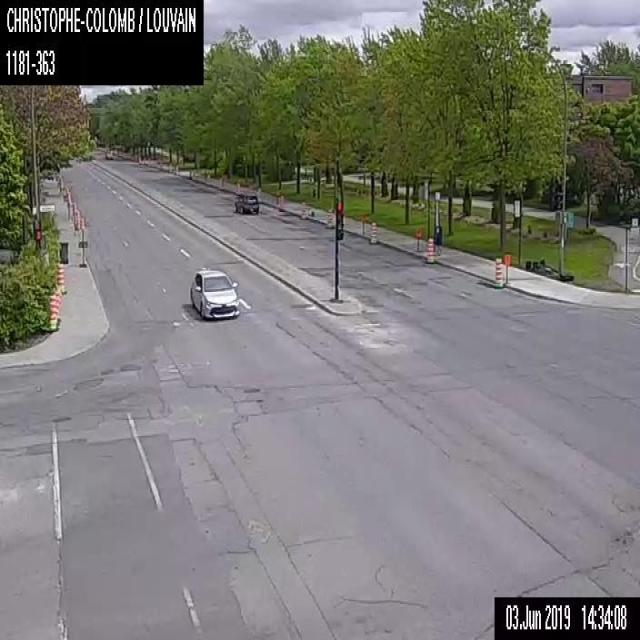construction: (56, 259, 67, 294), (50, 287, 61, 322), (47, 296, 58, 331), (49, 291, 60, 325), (494, 256, 503, 288), (504, 253, 512, 284), (425, 235, 434, 262), (414, 227, 422, 251), (274, 189, 284, 208), (369, 218, 376, 242), (360, 210, 366, 235), (326, 211, 333, 228), (73, 209, 78, 227), (234, 179, 240, 192), (72, 202, 76, 221), (76, 211, 80, 229), (80, 216, 85, 230)
vehicle: (189, 267, 239, 319), (233, 191, 259, 214)
